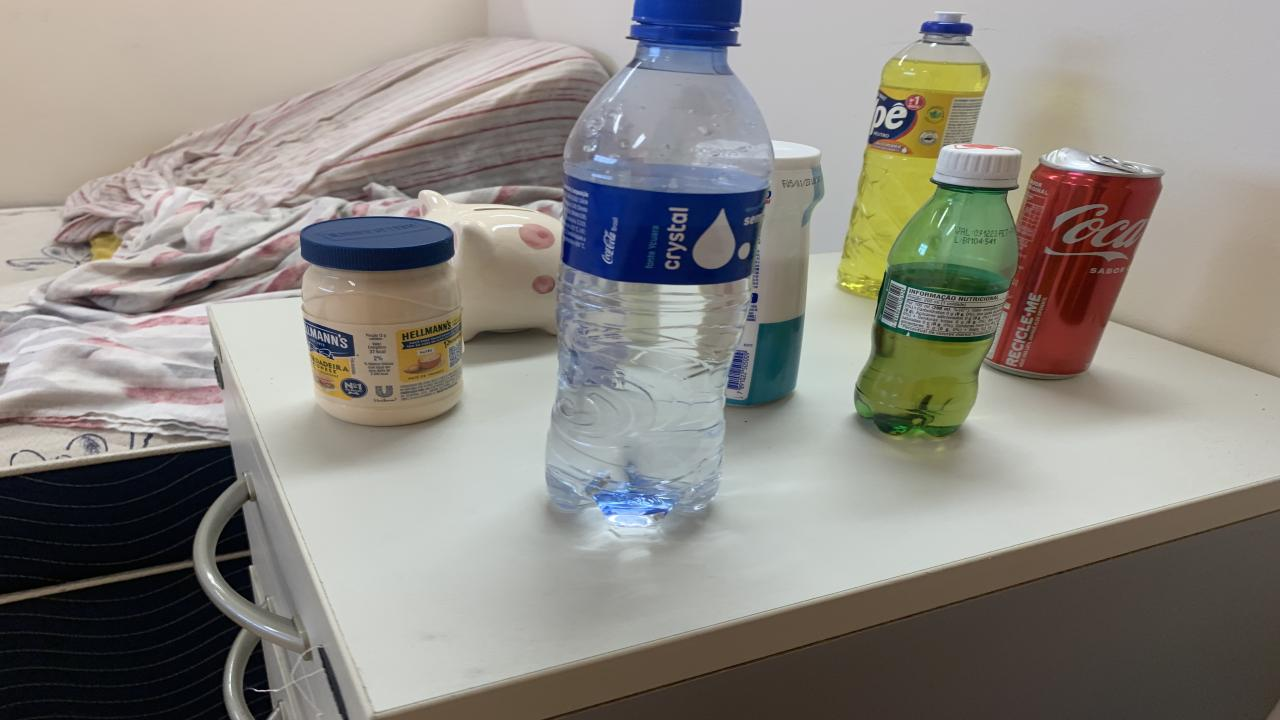Cleaner-Cleanup_Items: (728, 141, 825, 405)
Coke-Drinks: (985, 148, 1162, 379)
Detergent-Cleanup_Items: (838, 11, 990, 298)
Guarana-Drinks: (855, 182, 1018, 437), (935, 144, 1020, 186)
Mayonnaise-Pantry_Items: (300, 218, 462, 426)
Pig_Safe-Miscellaneous: (418, 189, 562, 341)
Water_Bottle-Drinks: (545, 0, 772, 527)
